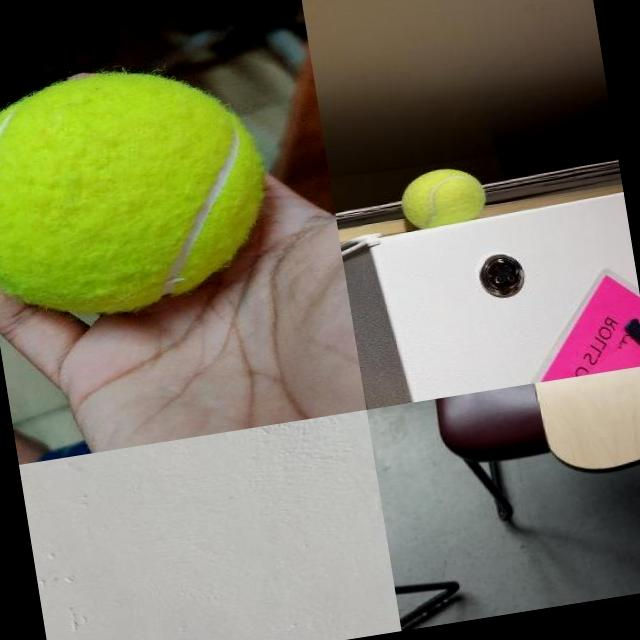Tennis Ball: (0, 52, 282, 333), (396, 162, 489, 230)
